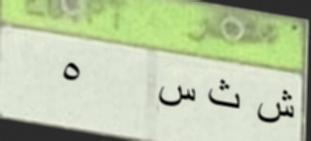5: (57, 58, 88, 86)
seen: (155, 80, 200, 114)
sheen: (252, 84, 296, 128)
thaa: (206, 75, 243, 118)
